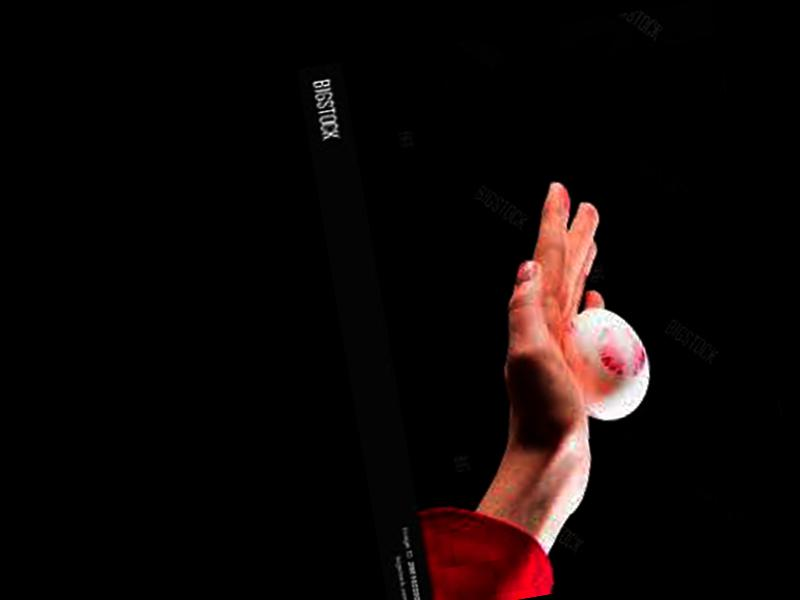Eggs: (564, 303, 658, 427)
